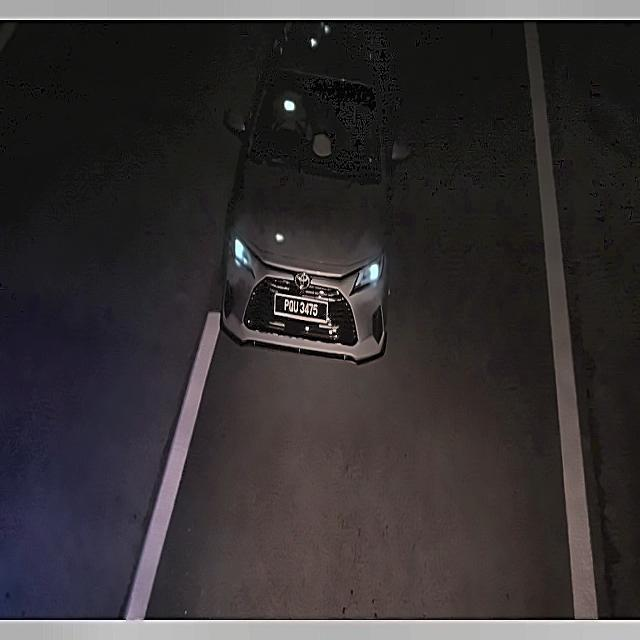car: (274, 292, 326, 327)
